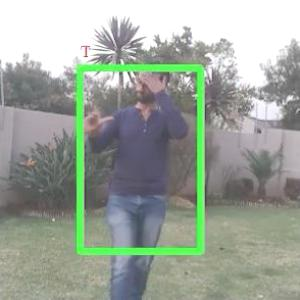land_hand: (74, 84, 116, 132)
